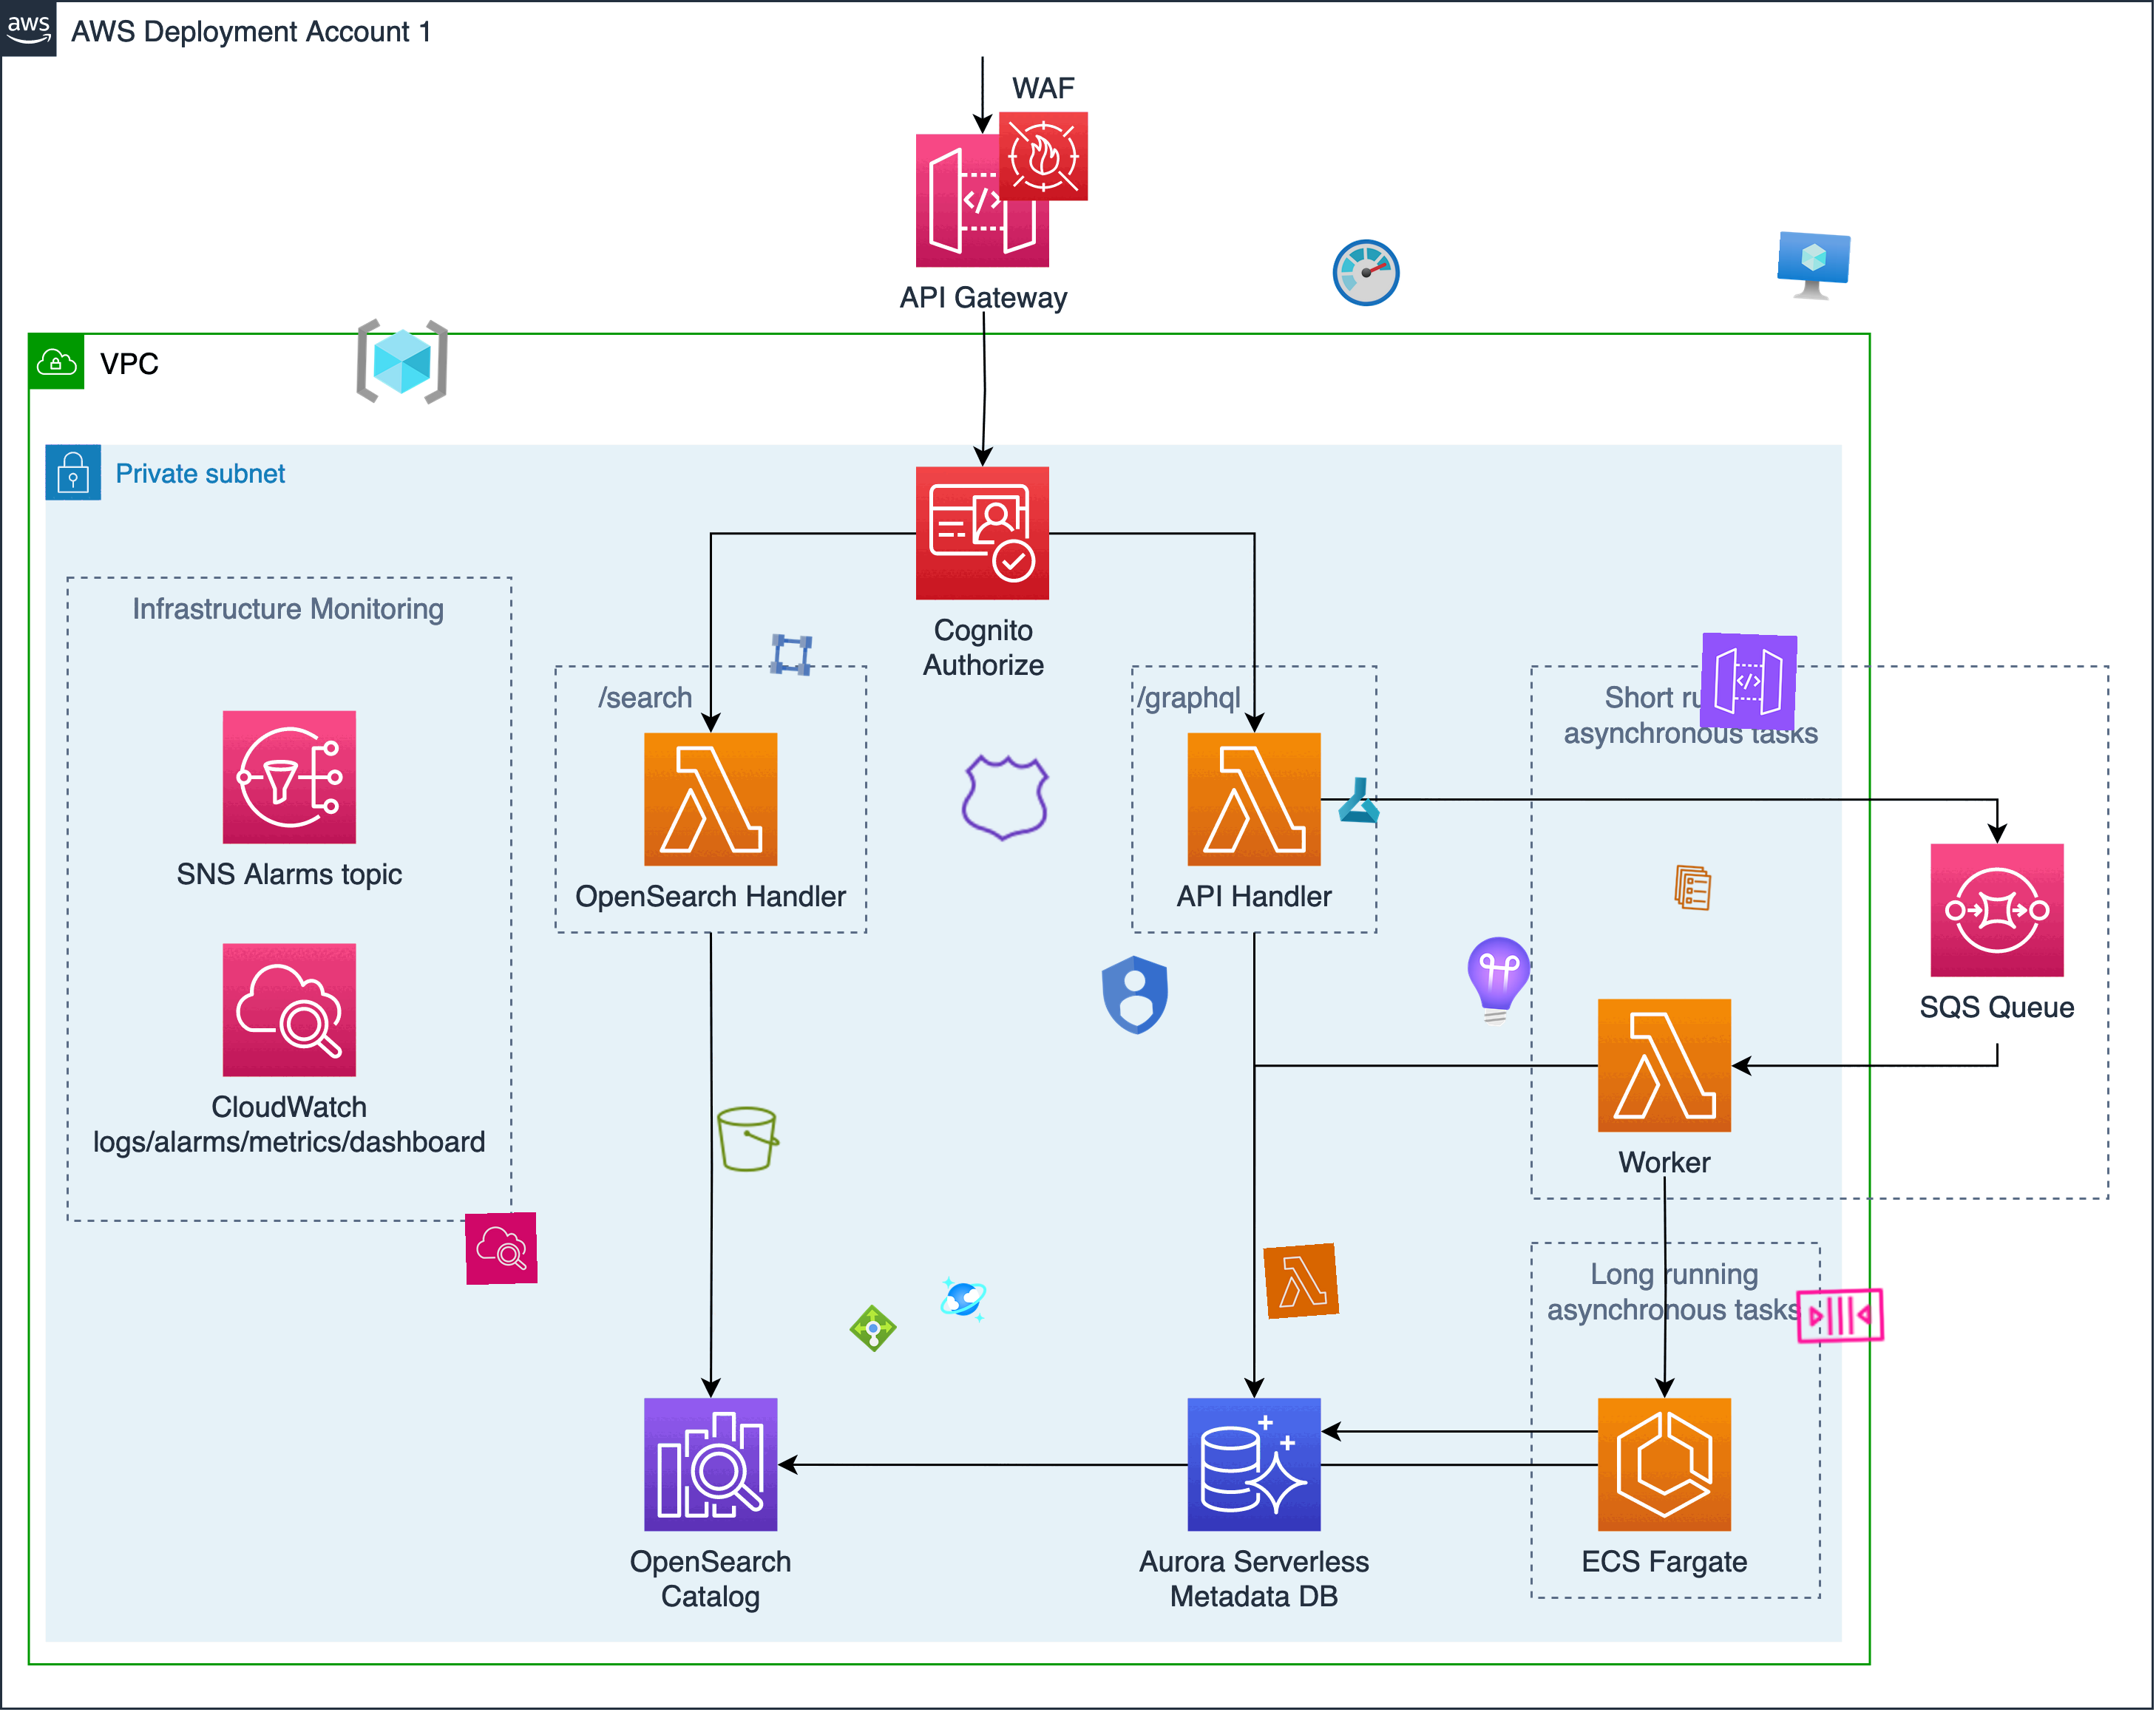aws_amazon_api_gateway: (1699, 631, 1799, 731)
aws_amazon_cloudwatch: (464, 1212, 539, 1285)
aws_elastic_container_service_service: (1668, 862, 1718, 913)
aws_lambda: (1263, 1243, 1340, 1320)
aws_route_53_hosted_zone: (956, 747, 1057, 850)
aws_simple_queue_service_queue: (1792, 1266, 1888, 1364)
aws_simple_storage_service_s3_standard: (712, 1103, 784, 1175)
azure_application_insights: (1447, 930, 1549, 1033)
azure_cosmos_db: (938, 1275, 989, 1324)
azure_load_balancers: (849, 1303, 898, 1354)
azure_machine_learning: (1335, 775, 1384, 825)
azure_monitor: (1328, 234, 1404, 311)
azure_resource_groups: (353, 313, 452, 411)
azure_virtual_machine: (1774, 229, 1852, 306)
gcp_identity_and_access_management: (1085, 944, 1186, 1046)
gcp_virtual_private_cloud: (765, 630, 817, 680)
